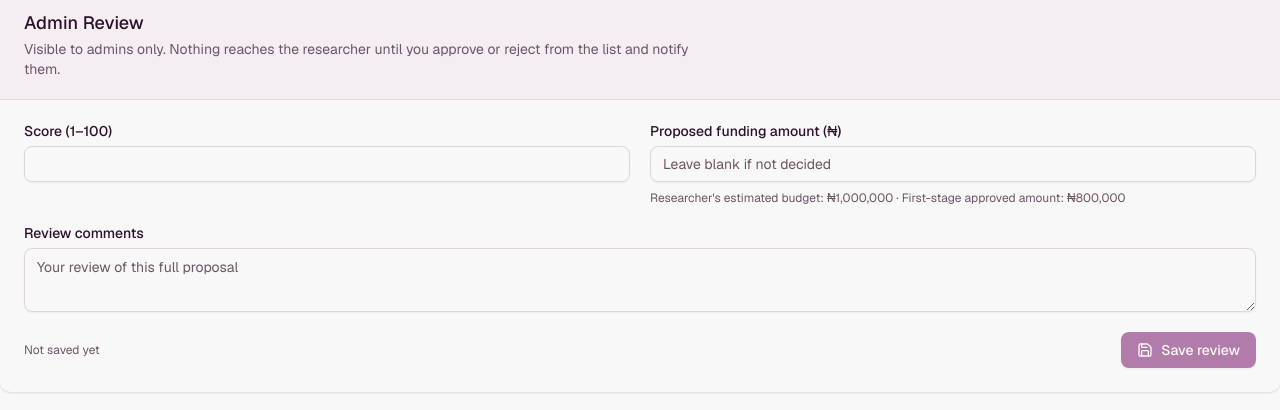
Test: FullProposalDraftReview › blocks an out-of-range score
Type "150" into the number field labelled "Score (1–100)".
click(327, 164); type("150")  # box [24,146,630,182]
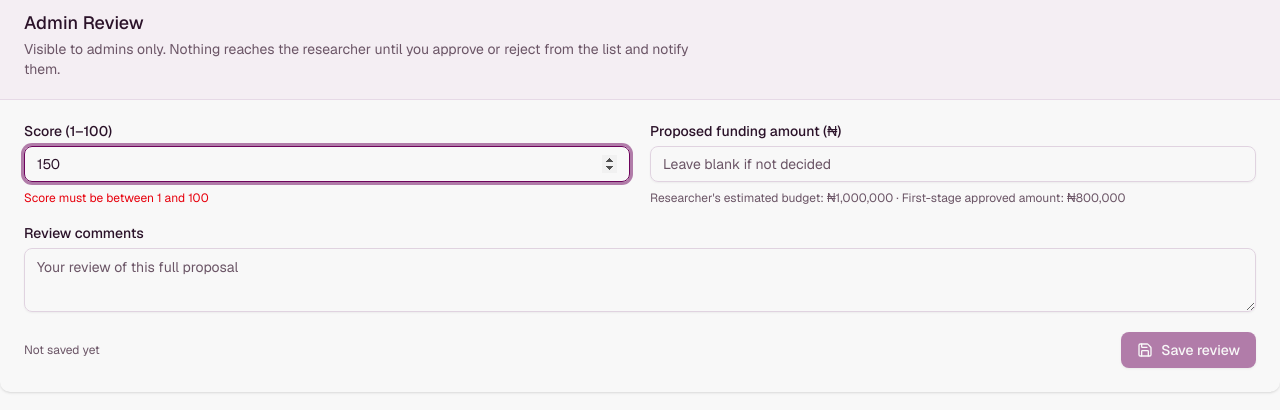
Expected: the button "Save review" is disabled, [1121,332,1256,368]
Expected: the text "Score must be between 1 and 100" is shown, [24,190,209,206]
